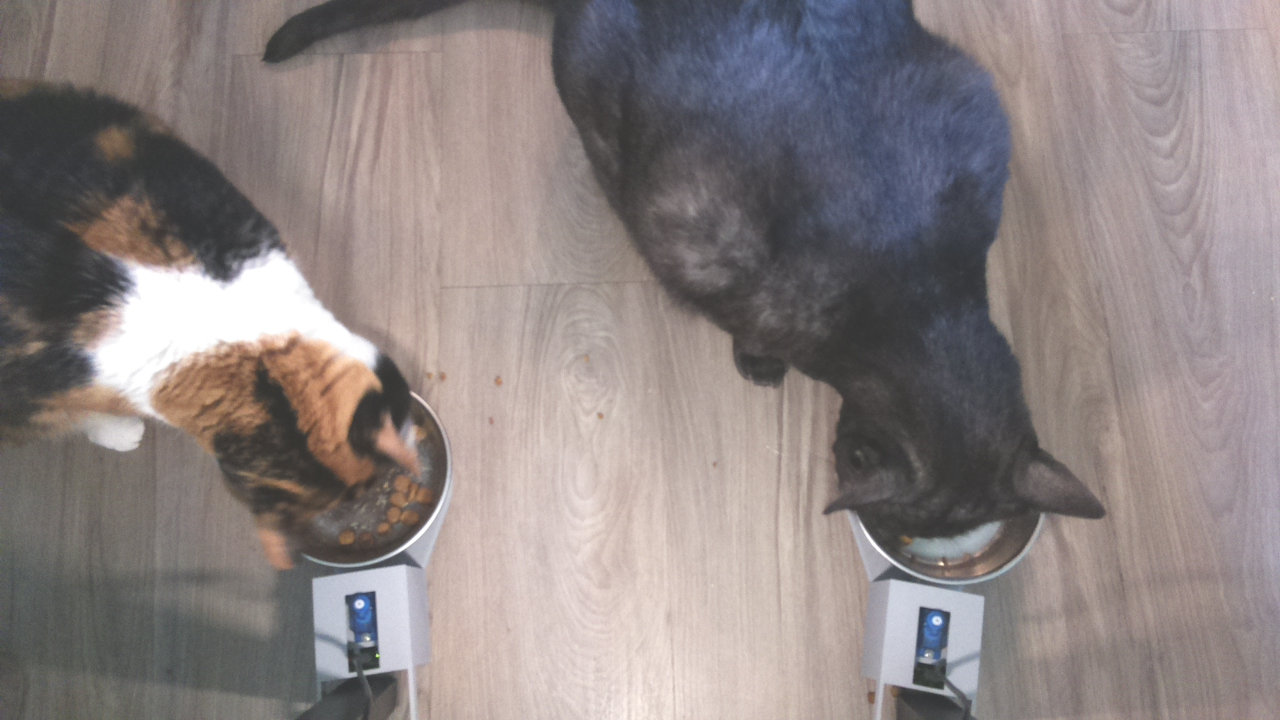bella_eating: (151, 268, 452, 576)
saki_eating: (808, 372, 1119, 587)
